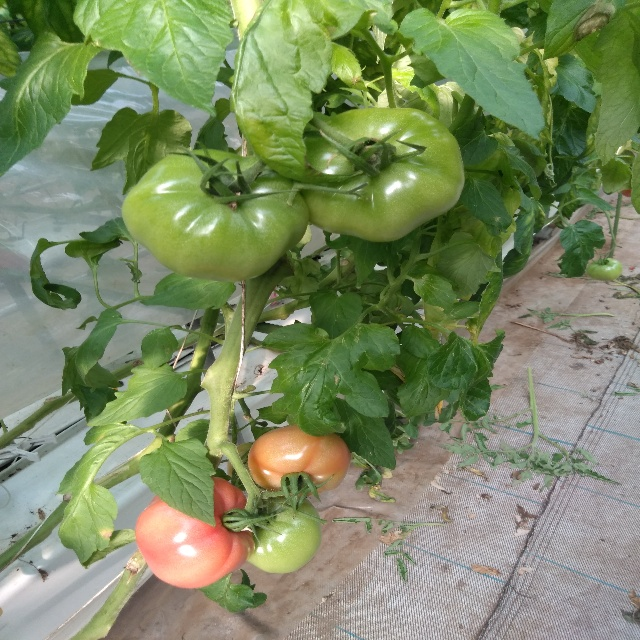b_green: (122, 149, 309, 282), (293, 107, 465, 243), (247, 494, 321, 573)
b_half_ripened: (135, 475, 255, 589), (247, 424, 351, 496)
